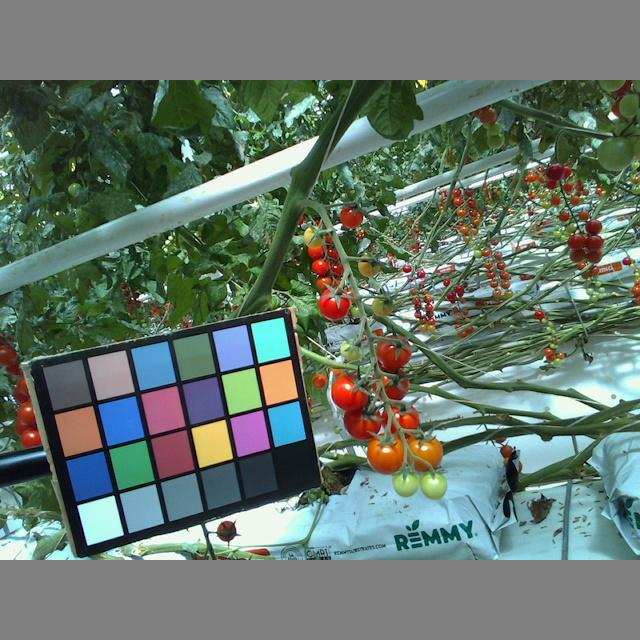green: (594, 133, 636, 172), (420, 470, 448, 499), (391, 468, 418, 498), (367, 294, 395, 318), (341, 336, 362, 358)
pink: (366, 434, 408, 473), (402, 432, 444, 471), (355, 253, 380, 277), (301, 223, 324, 248)
red: (328, 372, 370, 411), (380, 400, 418, 437), (341, 404, 380, 440), (370, 365, 410, 400), (377, 331, 409, 370), (318, 285, 352, 321), (338, 200, 364, 228), (311, 257, 330, 276)
